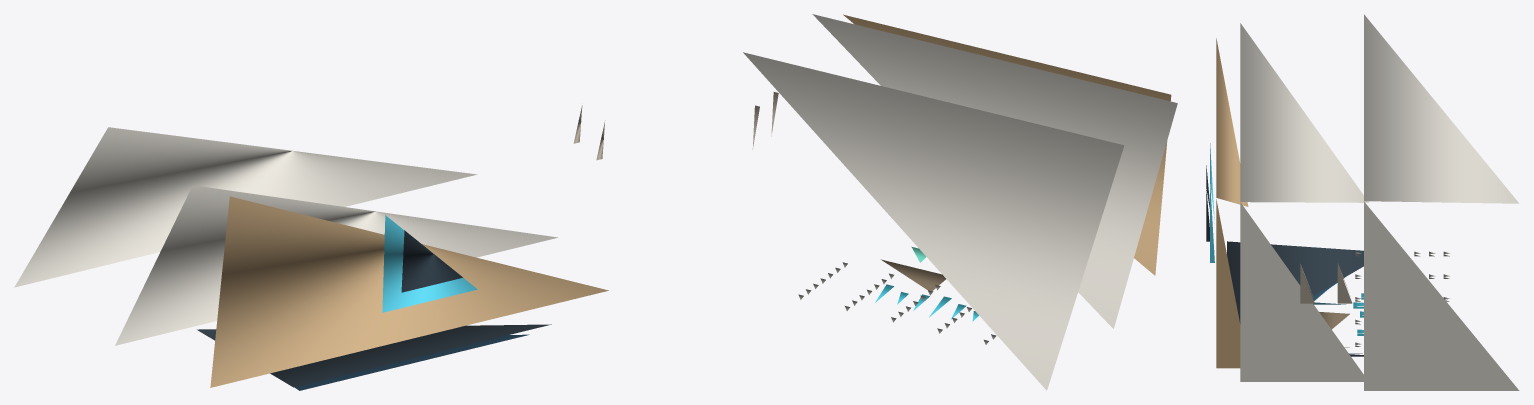
The picture shows the model from 3 angles, left to right: view 1: azimuth 30°, elevation 25°; view 2: azimuth 150°, elevation 25°; view 3: azimuth 270°, elevation 25°; orthographic projection. The views are drawn at different scales.
Parts seen in each view (by area): view 1: Floating top cap, Ceramic lower shell, Upper curved shoulder, Display bezel, Microphone luminous ring, Microphone dark center, Glass display; view 2: Ceramic lower shell, Upper curved shoulder, Floating top cap, Room lighting tile; view 3: Ceramic lower shell, Upper curved shoulder, Floating top cap, Display bezel, Microphone luminous ring, Side volume down, Side volume up, Room lighting tile.
Boxes of the visible parts, <box> form: Floating top cap: <box>210,196,608,387</box>; Ceramic lower shell: <box>14,127,477,287</box>; Upper curved shoulder: <box>115,185,557,345</box>; Display bezel: <box>197,324,551,387</box>; Microphone luminous ring: <box>382,215,477,312</box>; Microphone dark center: <box>401,230,462,292</box>; Glass display: <box>294,334,529,390</box>; Ceramic lower shell: <box>743,52,1124,390</box>; Upper curved shoulder: <box>812,14,1177,328</box>; Floating top cap: <box>843,14,1171,275</box>; Room lighting tile: <box>881,259,945,290</box>; Ceramic lower shell: <box>1364,14,1519,390</box>; Upper curved shoulder: <box>1240,23,1368,381</box>; Floating top cap: <box>1216,38,1248,368</box>; Display bezel: <box>1227,241,1363,356</box>; Microphone luminous ring: <box>1210,143,1214,262</box>; Side volume down: <box>1337,263,1352,303</box>; Side volume up: <box>1300,263,1314,303</box>; Room lighting tile: <box>1319,312,1349,347</box>.
Size of the model in its own units: 1.65 by 0.837 by 1.17.
